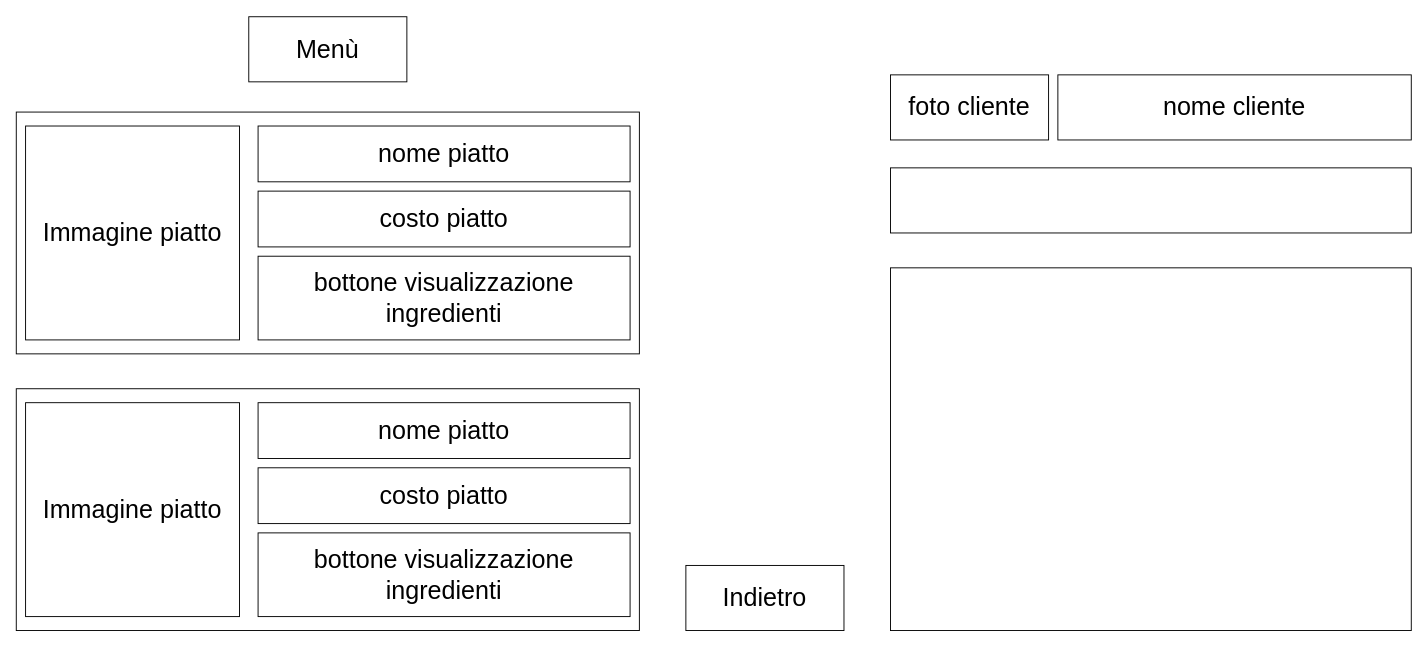
Some shapes in this 1428 by 646 pixel diagram are drawn without their labels. The centre of each missing label's shape, as x and y in pixels:
"dieta cliente" goes at pixel 1150 200.
"lista patologie cliente" goes at pixel 1150 449.
